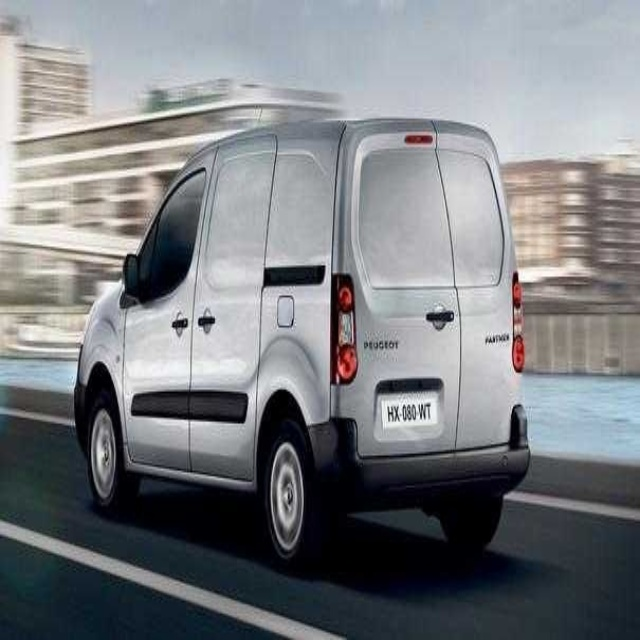Van: (73, 111, 531, 576)
